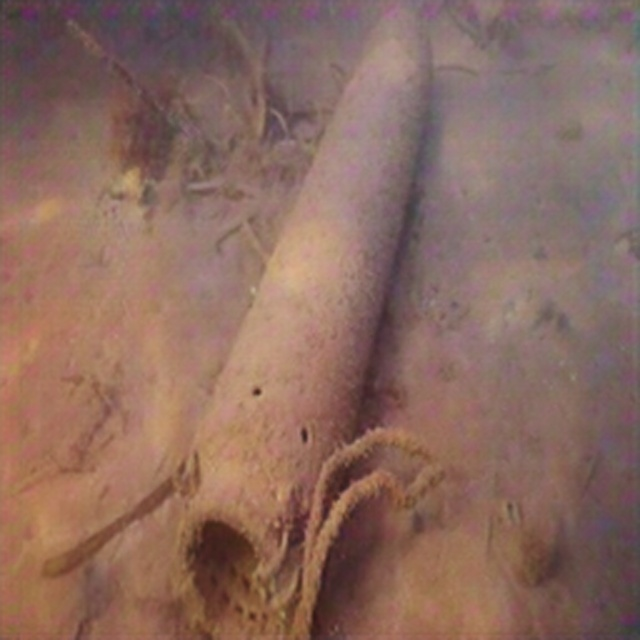mine: (171, 3, 434, 639)
